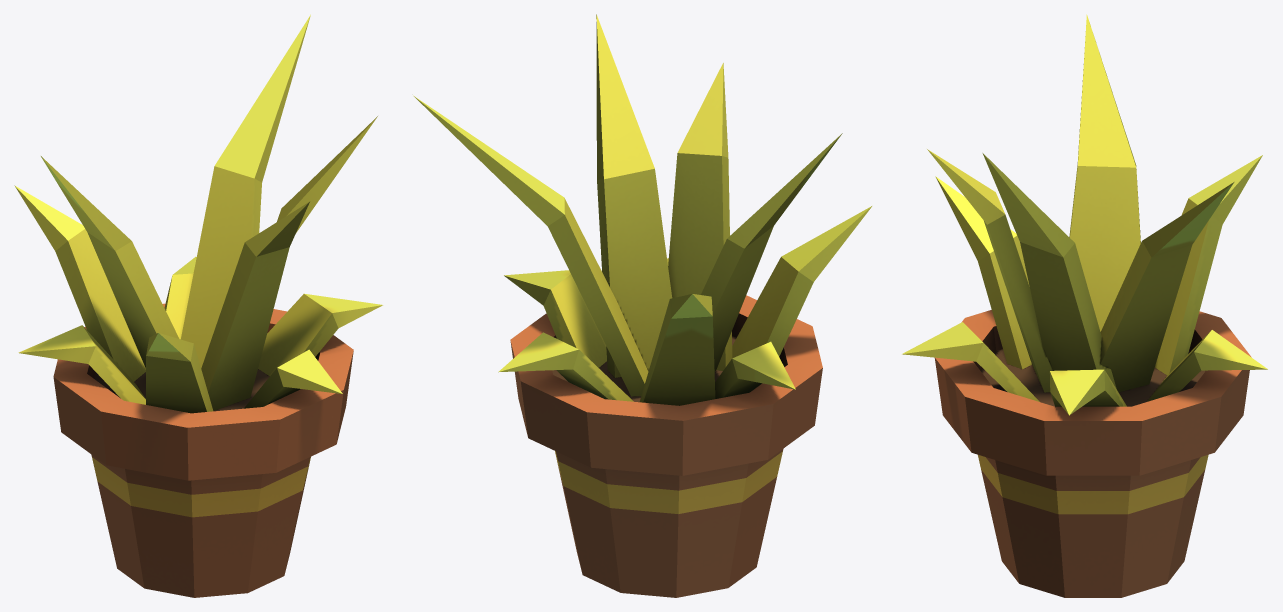
Rendered from 6686e9a1-7aae-462b-bad5-111e36afabb1.glb.
3 renders of one model, left to right at view 1: azimuth 30°, elevation 25°; view 2: azimuth 150°, elevation 25°; view 3: azimuth 270°, elevation 25°, orthographic. The views are drawn at different scales.
Visible parts, largest first — view 1: plant; view 2: plant; view 3: plant.
Boxes of the visible parts, bbox=[...] form: plant: bbox=[14, 14, 382, 597]; plant: bbox=[413, 14, 871, 597]; plant: bbox=[902, 14, 1267, 597].
Size of the model in its own units: 1.35 by 1.71 by 1.21.
Materials: 1 (1 with a texture image).
